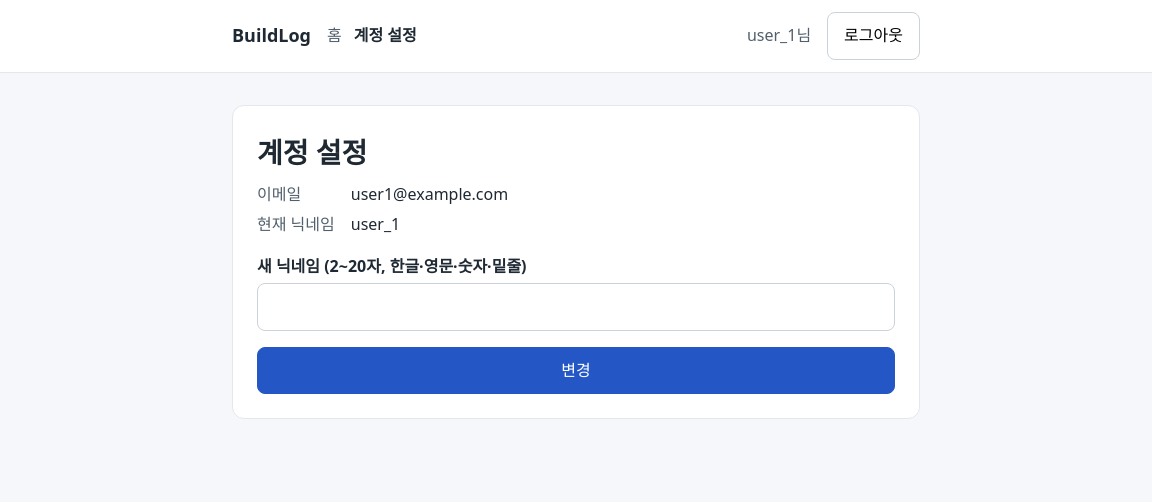
Test: 닉네임 변경 › 성공하면 바뀐 닉네임을 보여준다
The width and height of the screenshot is (1152, 502).
Check: the heading "계정 설정" is shown, box [257, 133, 367, 171]
In the field labelled "새 닉네임 (2~20자, 한글·영문·숫자·밑줄)": (576, 307) [257, 283, 895, 331], type "새닉네임"
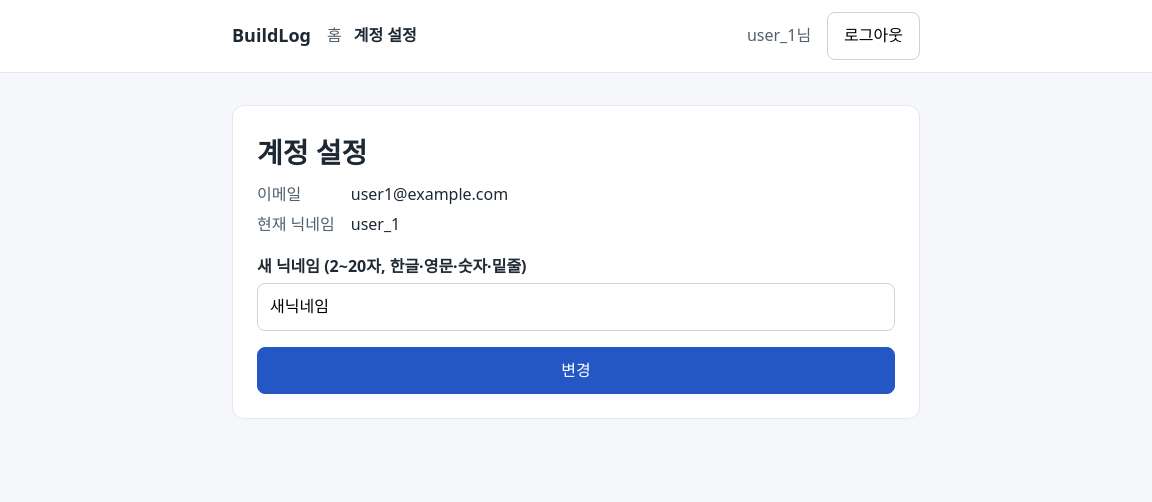
Click the button "변경": (576, 371) [257, 347, 895, 394]
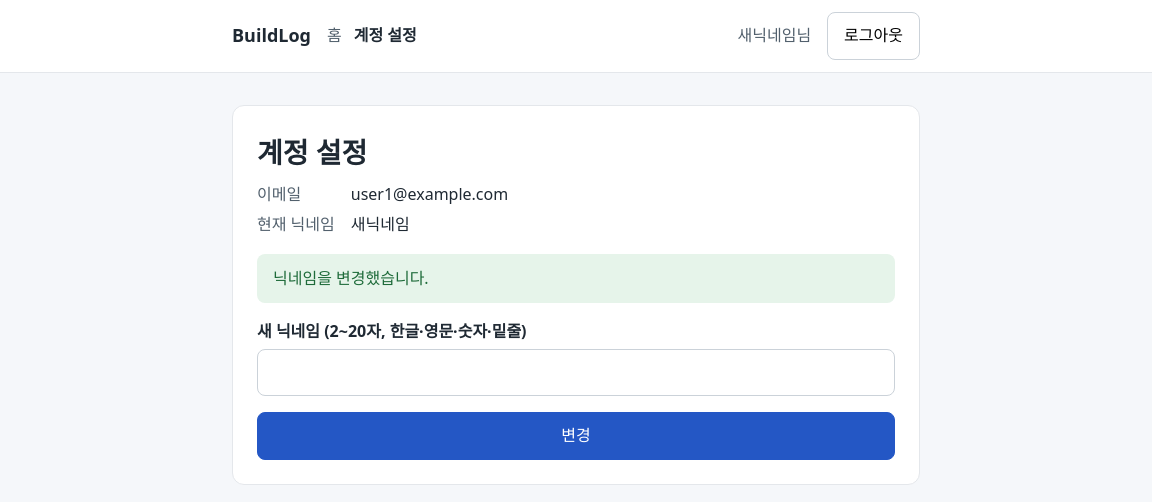
Check: the text "닉네임을 변경했습니다." is shown, box [257, 254, 895, 303]
Check: the text with test id "current-nickname" reads "새닉네임", box [351, 213, 410, 235]
